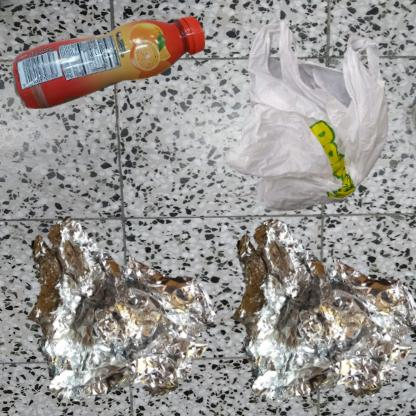aluminio: (10, 213, 229, 416), (213, 213, 416, 416)
bolsa: (213, 10, 416, 249)
botella: (10, 10, 209, 115)
